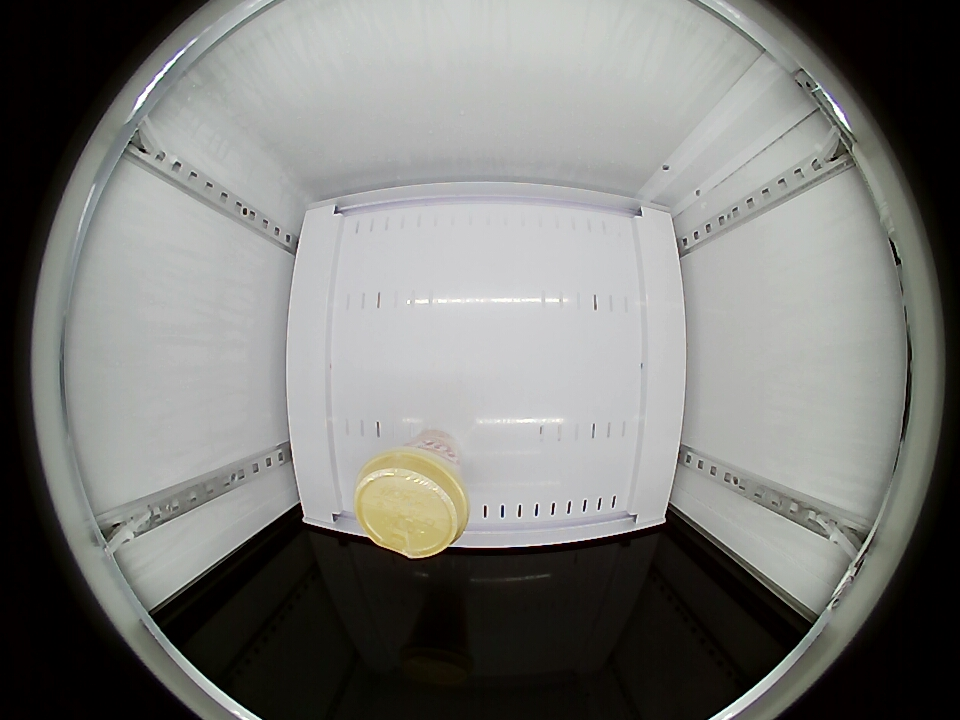youlemei: (355, 446, 469, 558)
